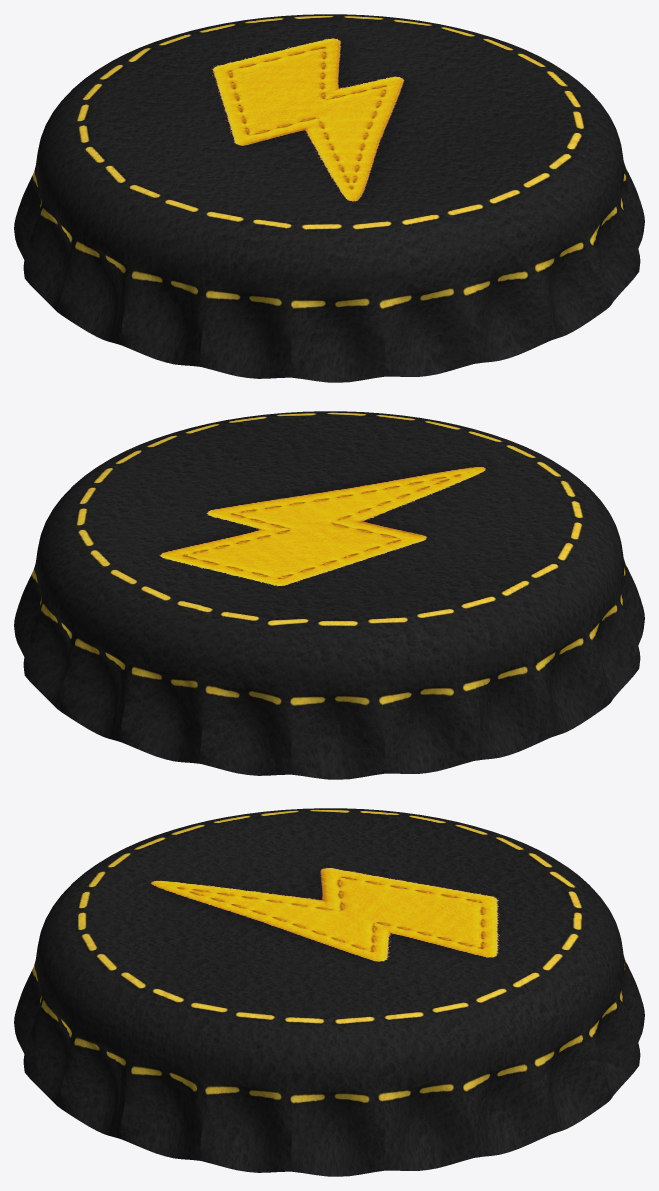
The model's file is piorun.glb.
3 views of the same model, one above another, from view 1: azimuth 30°, elevation 25°; view 2: azimuth 150°, elevation 25°; view 3: azimuth 270°, elevation 25° (orthographic).
Visible parts, largest first — view 1: Kapsel_LOD0_piorun; view 2: Kapsel_LOD0_piorun; view 3: Kapsel_LOD0_piorun.
Boxes of the visible parts, x1,y1,x2,y2 form: Kapsel_LOD0_piorun: (14, 14, 644, 382); Kapsel_LOD0_piorun: (14, 411, 644, 779); Kapsel_LOD0_piorun: (14, 808, 644, 1176).
Size of the model in its own units: 29.9 by 7 by 29.92.
Materials: 2 (2 with a texture image).
